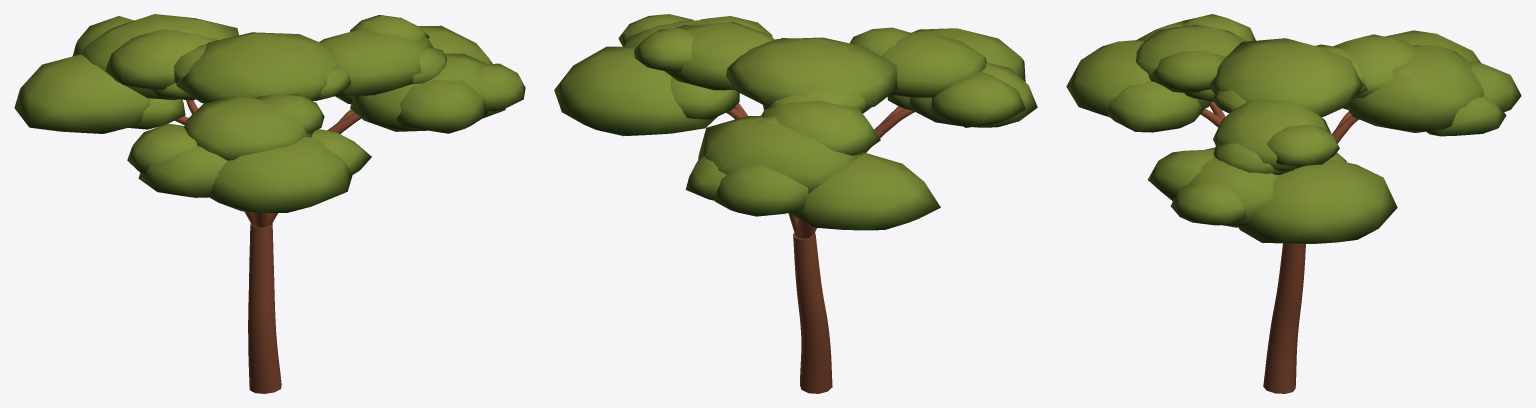
The model's file is acacia_young.glb.
3 renders of one model, left to right at view 1: azimuth 30°, elevation 25°; view 2: azimuth 150°, elevation 25°; view 3: azimuth 270°, elevation 25°, orthographic.
Visible parts, largest first — view 1: acacia_young_leaves, acacia_young_bark; view 2: acacia_young_leaves, acacia_young_bark; view 3: acacia_young_leaves, acacia_young_bark.
Part boxes in pixels (x1,y1,x2,y2): acacia_young_leaves: [14, 14, 525, 212]; acacia_young_bark: [175, 100, 360, 393]; acacia_young_leaves: [554, 14, 1037, 230]; acacia_young_bark: [726, 103, 914, 393]; acacia_young_leaves: [1066, 14, 1521, 243]; acacia_young_bark: [1200, 101, 1358, 393].
Bounding box in the file's own units: 8.6 × 6.72 × 8.35.
